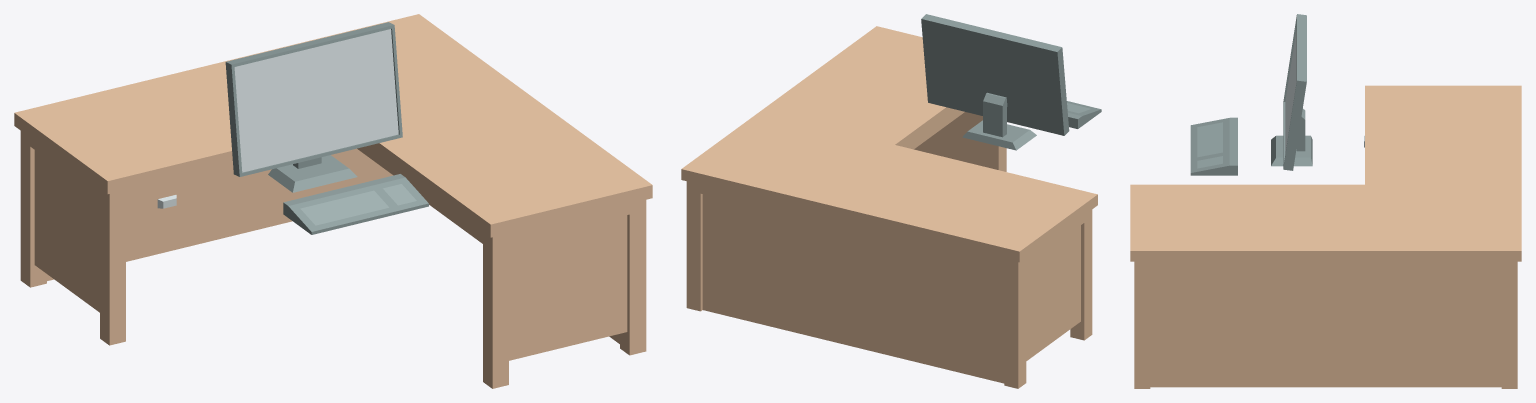
Rendered from computer_corner.glb.
The picture shows the model from 3 angles, left to right: view 1: azimuth 30°, elevation 25°; view 2: azimuth 150°, elevation 25°; view 3: azimuth 270°, elevation 25°; orthographic projection. The views are drawn at different scales.
Parts seen in each view (by area): view 1: deskCorner(Clone), computerScreen(Clone), computerKeyboard(Clone), drawer; view 2: deskCorner(Clone), computerScreen(Clone), computerKeyboard(Clone); view 3: deskCorner(Clone), computerScreen(Clone), computerKeyboard(Clone).
Boxes of the visible parts, box(x1,y1,x2,y2) form: deskCorner(Clone): box(14, 14, 652, 388); computerScreen(Clone): box(225, 22, 402, 192); computerKeyboard(Clone): box(283, 174, 428, 234); drawer: box(126, 180, 207, 222); deskCorner(Clone): box(681, 26, 1097, 388); computerScreen(Clone): box(921, 14, 1069, 150); computerKeyboard(Clone): box(1067, 101, 1101, 128); deskCorner(Clone): box(1130, 85, 1521, 388); computerScreen(Clone): box(1271, 14, 1312, 170); computerKeyboard(Clone): box(1190, 117, 1237, 175).
Size of the model in its own units: 2 by 1.38 by 2.
